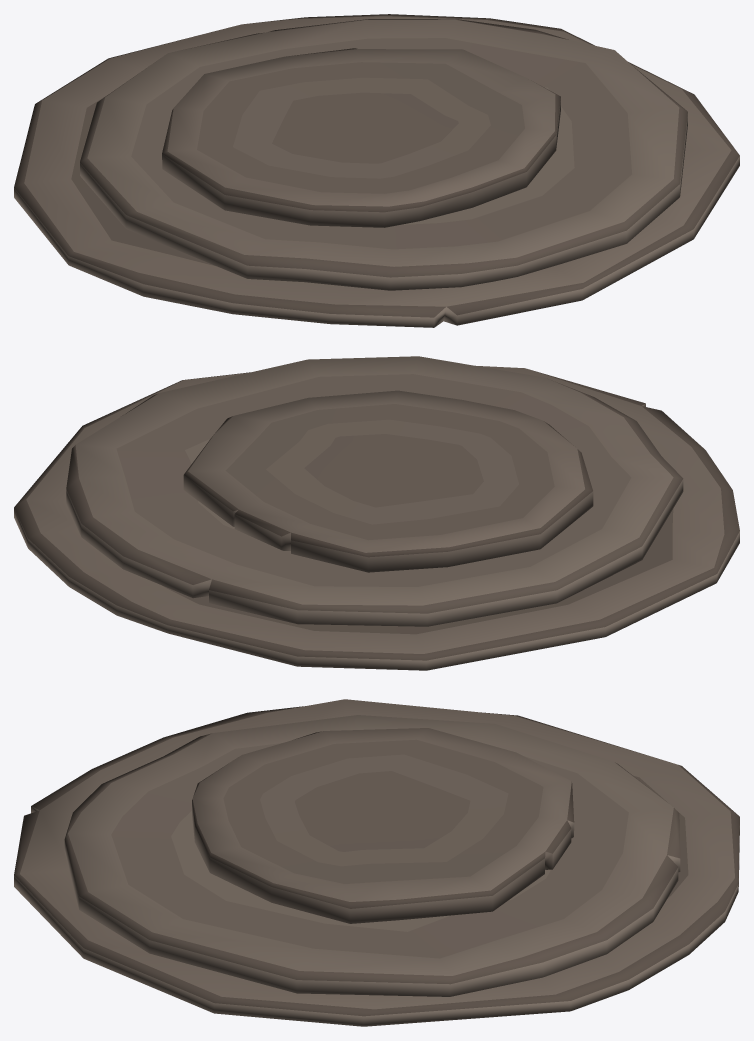
File: obj_PortalStart.fbx
The picture shows the model from 3 angles, top to bottom: view 1: azimuth 30°, elevation 25°; view 2: azimuth 150°, elevation 25°; view 3: azimuth 270°, elevation 25°; orthographic projection. The views are drawn at different scales.
Parts seen in each view (by area): view 1: obj_PortalStart; view 2: obj_PortalStart; view 3: obj_PortalStart.
Boxes of the visible parts, x1,y1,x2,y2 form: obj_PortalStart: (14, 14, 739, 327); obj_PortalStart: (14, 356, 739, 670); obj_PortalStart: (14, 699, 739, 1026).
Bounding box in the file's own units: 1589 × 143 × 1543.
